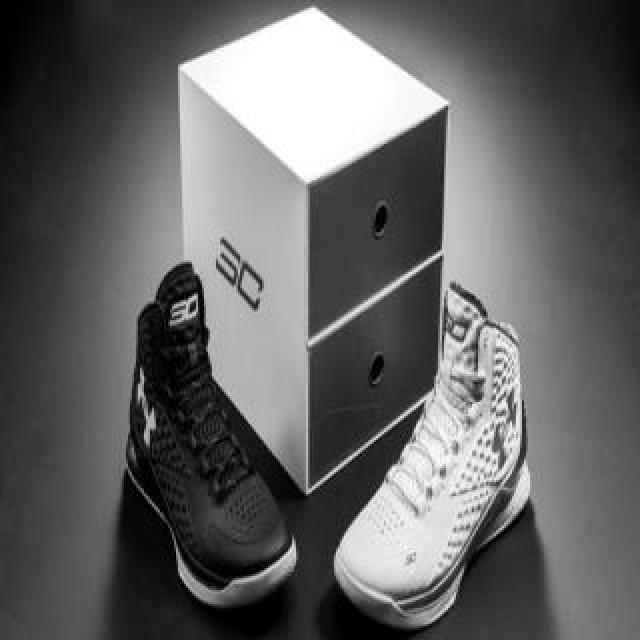shoes: (332, 282, 528, 626), (124, 261, 296, 603)
